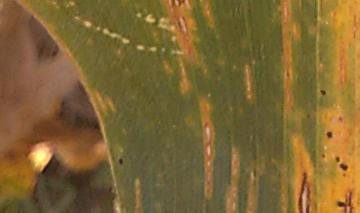tarspot: (335, 199, 348, 209), (338, 162, 349, 171), (324, 130, 333, 140), (336, 113, 344, 122), (117, 156, 124, 166), (318, 89, 327, 96), (334, 155, 341, 163), (305, 112, 312, 120), (320, 152, 326, 158)
